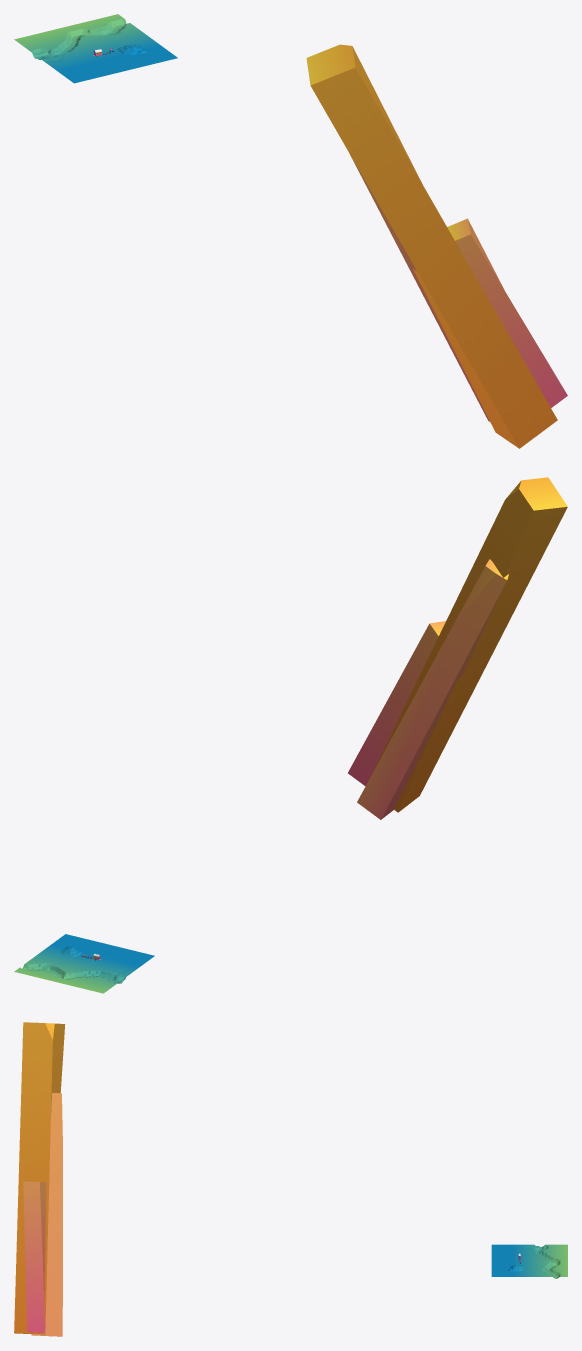
File: StylizedMeshes_withTerrain_BackgroundRockFormation_dimensionScale.fbx
3 views of the same model, one above another, from view 1: azimuth 30°, elevation 25°; view 2: azimuth 150°, elevation 25°; view 3: azimuth 270°, elevation 25° (orthographic). The views are drawn at different scales.
Visible parts, largest first — view 1: Cube.001, Terrain, Cube.005, Cube.004; view 2: Cube.001, Cube.004, Terrain, Cube.005; view 3: Cube.001, Cube.004, Cube.005, Terrain.
Boxes of the visible parts, x1=… form: Cube.001: x1=306, y1=44, x2=557, y2=448; Terrain: x1=14, y1=14, x2=177, y2=83; Cube.005: x1=447, y1=218, x2=567, y2=407; Cube.004: x1=350, y1=155, x2=489, y2=421; Cube.001: x1=370, y1=477, x2=567, y2=812; Cube.004: x1=357, y1=559, x2=508, y2=819; Terrain: x1=14, y1=934, x2=154, y2=993; Cube.005: x1=348, y1=621, x2=445, y2=786; Cube.001: x1=14, y1=1022, x2=65, y2=1334; Cube.004: x1=31, y1=1093, x2=62, y2=1336; Cube.005: x1=23, y1=1181, x2=46, y2=1332; Terrain: x1=491, y1=1244, x2=567, y2=1278.
Size of the model in its own units: 72648 by 24001 by 38684.
